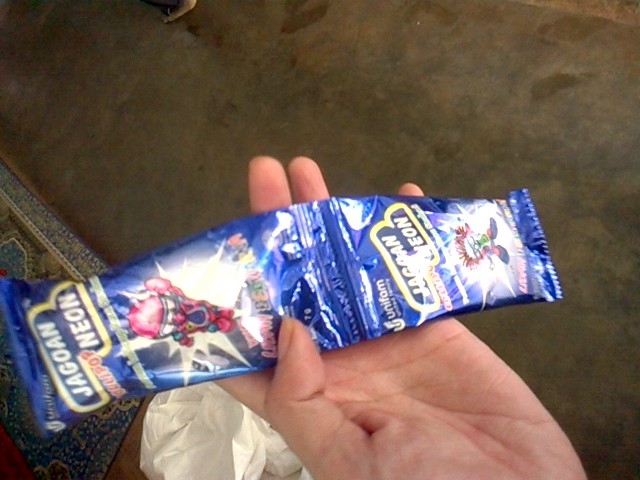jagoan neon: (3, 204, 354, 439), (309, 189, 564, 339)
